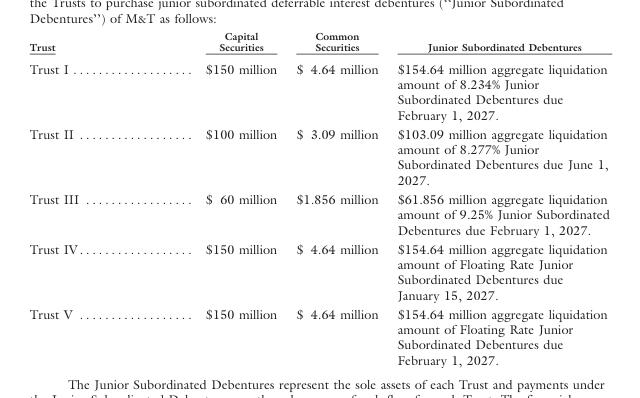table: (28, 29, 608, 367)
table column: (387, 29, 608, 367), (28, 29, 198, 367), (285, 29, 387, 367), (198, 29, 285, 367)
table column header: (28, 29, 608, 56)
table row: (28, 56, 608, 123), (28, 123, 608, 188), (28, 238, 608, 303), (28, 303, 608, 367), (28, 188, 608, 238), (28, 29, 608, 56)
